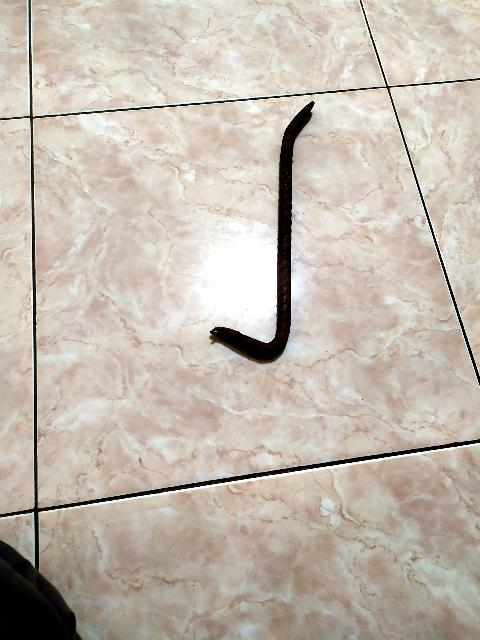crow bar: (208, 93, 328, 366)
